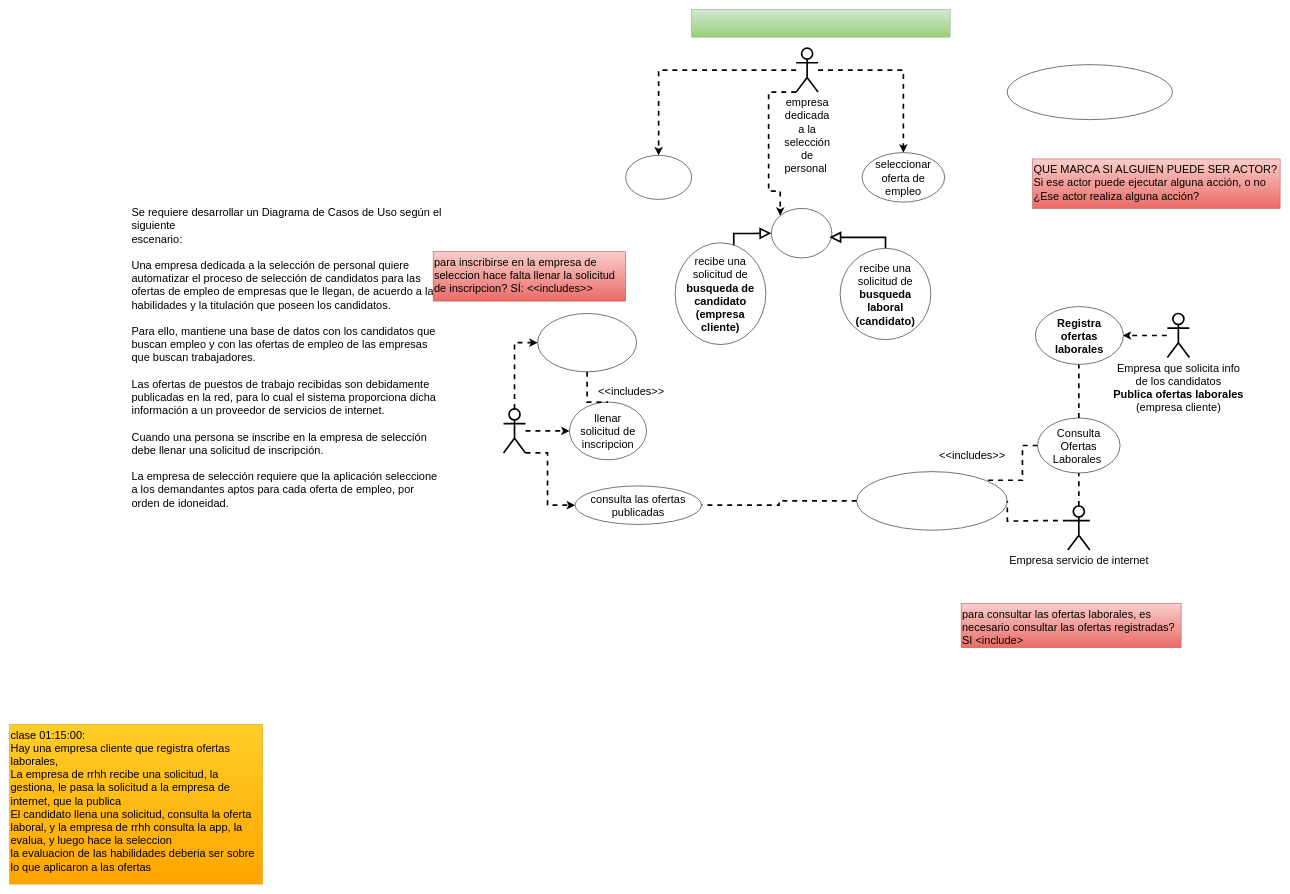
This 1290x894 diagram has some shape labels left out. Each missing label, with the centre of its shape:
"Candidato" goes at pixel 514 430.
"evaluar habilidades y titulacion automaticamente" goes at pixel 1089 92.
"publicar ofertas laborales registradas por Empresa Cliente" goes at pixel 931 500.
"recibe una solicitud" goes at pixel 801 233.
"se inscribe en la empresa de selección" goes at pixel 587 342.
"seleccionar candidato" goes at pixel 658 177.
"Sistema de selección de personal" goes at pixel 820 23.
